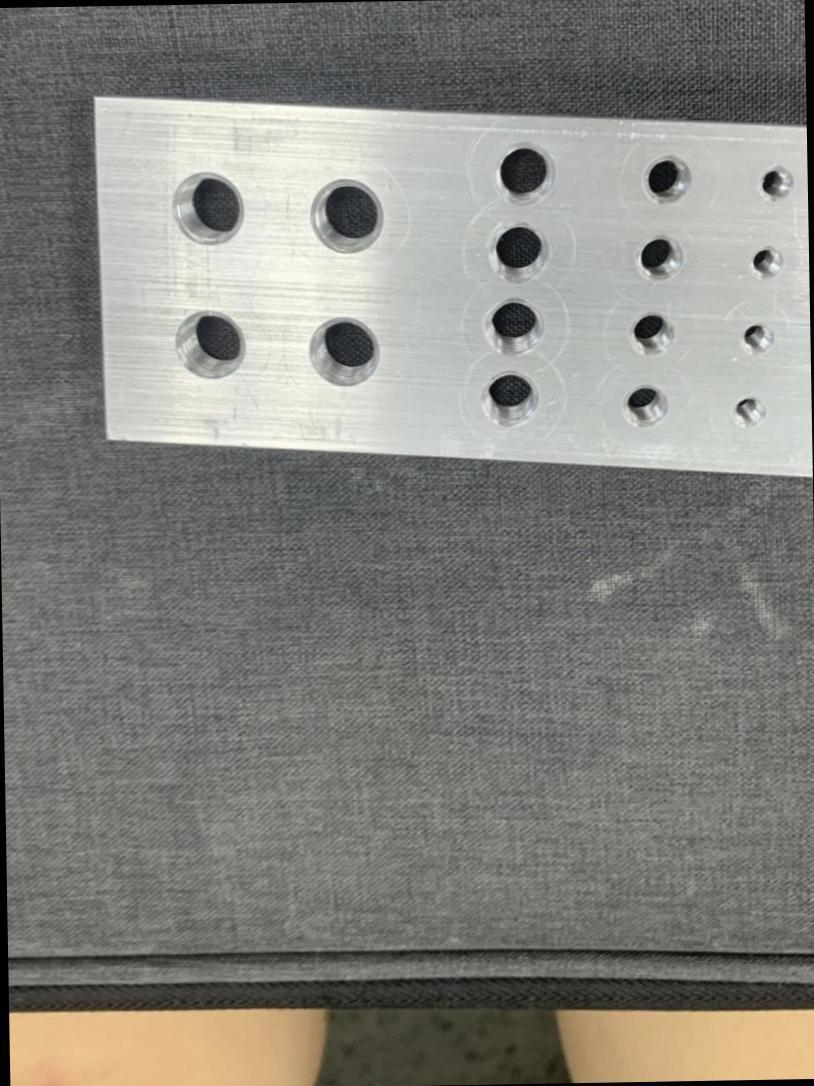hole: (302, 166, 394, 258), (168, 164, 248, 254), (174, 298, 253, 384), (300, 313, 384, 390), (478, 365, 539, 427), (489, 222, 553, 280), (482, 296, 543, 351), (495, 143, 553, 200), (642, 152, 696, 206), (628, 306, 678, 354), (633, 233, 682, 281), (614, 382, 666, 426), (758, 161, 802, 203), (732, 388, 768, 429), (749, 243, 787, 280), (739, 319, 779, 354)
